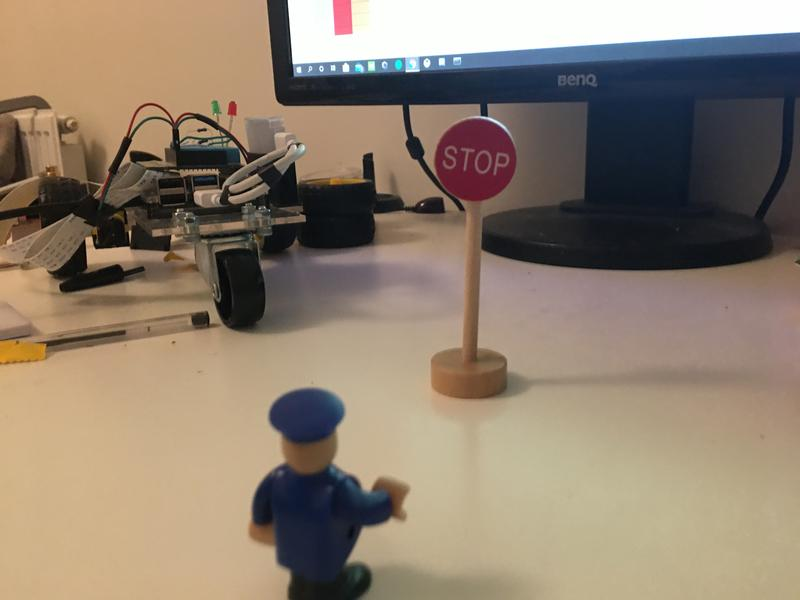Traffic_Sign_Stop: (433, 116, 514, 200)
person: (247, 387, 409, 600)
